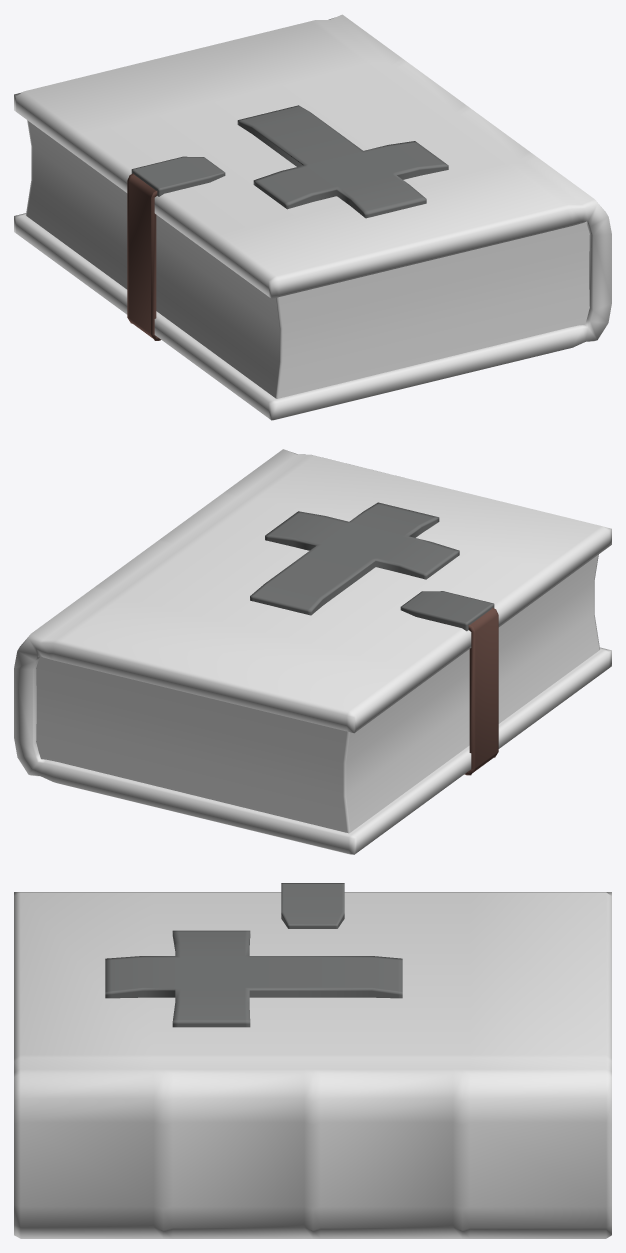
Rendered from Bible.fbx.
3 views of the same model, one above another, from view 1: azimuth 30°, elevation 25°; view 2: azimuth 150°, elevation 25°; view 3: azimuth 270°, elevation 25° (orthographic). The views are drawn at different scales.
Visible parts, largest first — view 1: Book Cover, Book Pages, Cross, Leather Strip, Clasp; view 2: Book Cover, Book Pages, Cross, Leather Strip, Clasp; view 3: Book Cover, Cross, Clasp.
Part boxes in pixels (box(x1,y1,x2,y2)): Book Cover: box(14, 14, 611, 420); Book Pages: box(26, 120, 589, 398); Cross: box(237, 105, 448, 218); Leather Strip: box(127, 173, 160, 340); Clasp: box(131, 156, 225, 196); Book Cover: box(14, 449, 611, 854); Book Pages: box(36, 554, 599, 833); Cross: box(250, 502, 459, 615); Leather Strip: box(464, 607, 498, 775); Clasp: box(400, 591, 494, 631); Book Cover: box(14, 892, 611, 1238); Cross: box(105, 930, 402, 1027); Clasp: box(281, 883, 344, 928).
Size of the model in its own units: 48.08 by 37.47 by 16.18.
